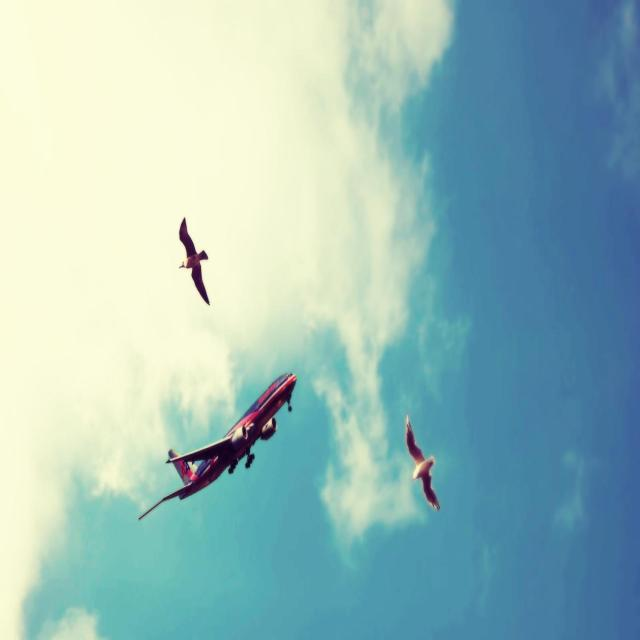airplane: (138, 370, 297, 521)
